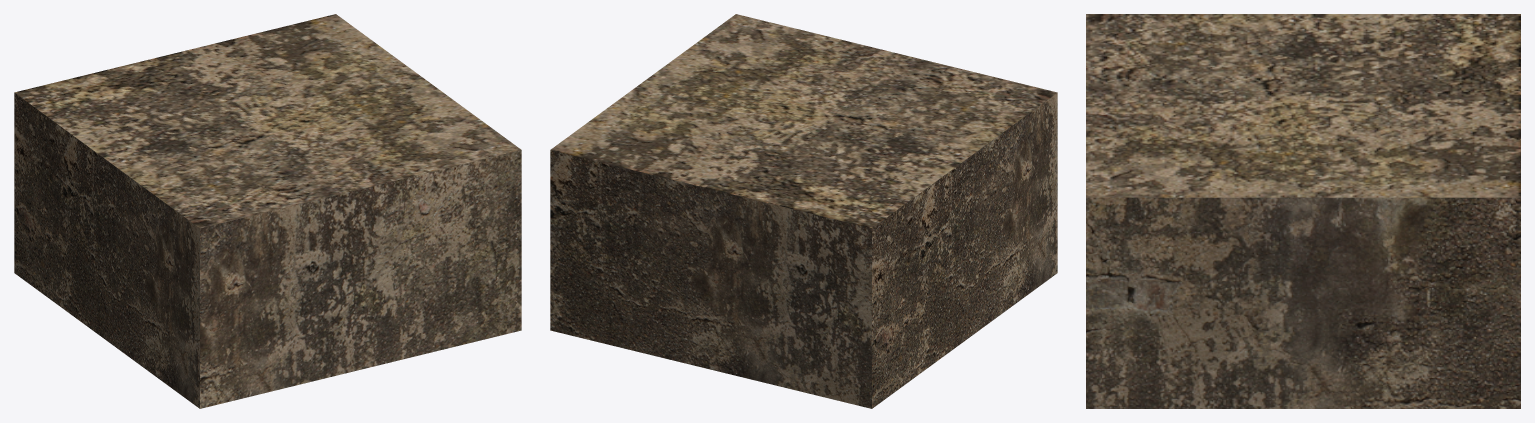
Rendered from materials_5_floor_rectangle_5.fbx.
The picture shows the model from 3 angles, left to right: view 1: azimuth 30°, elevation 25°; view 2: azimuth 150°, elevation 25°; view 3: azimuth 270°, elevation 25°; orthographic projection. The views are drawn at different scales.
Visible parts, largest first — view 1: materials_5_floor_rectangle_5; view 2: materials_5_floor_rectangle_5; view 3: materials_5_floor_rectangle_5.
Boxes of the visible parts, x1,y1,x2,y2 form: materials_5_floor_rectangle_5: (14,14,521,408); materials_5_floor_rectangle_5: (550,14,1057,408); materials_5_floor_rectangle_5: (1086,14,1520,408).
Size of the model in its own units: 80 by 42.89 by 80.
